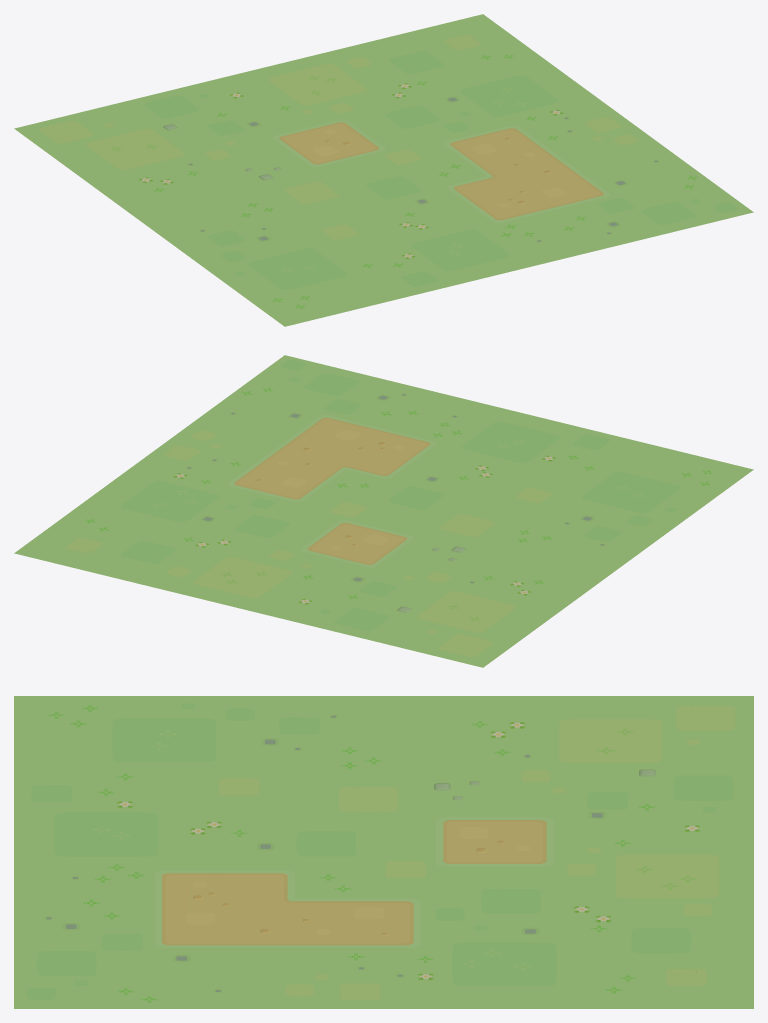
Rendered from C_grass1_03.fbx.
3 views of the same model, one above another, from view 1: azimuth 30°, elevation 25°; view 2: azimuth 150°, elevation 25°; view 3: azimuth 270°, elevation 25° (orthographic). The views are drawn at different scales.
Parts seen in each view (by area): view 1: C_grass1_03.002; view 2: C_grass1_03.002; view 3: C_grass1_03.002.
Part boxes in pixels (bbox=[...]): C_grass1_03.002: bbox=[14, 14, 753, 326]; C_grass1_03.002: bbox=[14, 355, 753, 667]; C_grass1_03.002: bbox=[14, 696, 753, 1008].
Bounding box in the file's own units: 50 × 0.1888 × 50.
Materials: 1 (1 with a texture image).
